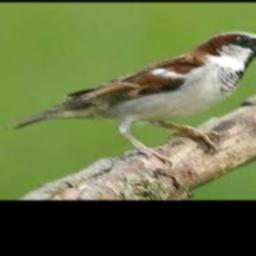Sparrow: (0, 31, 256, 166)
